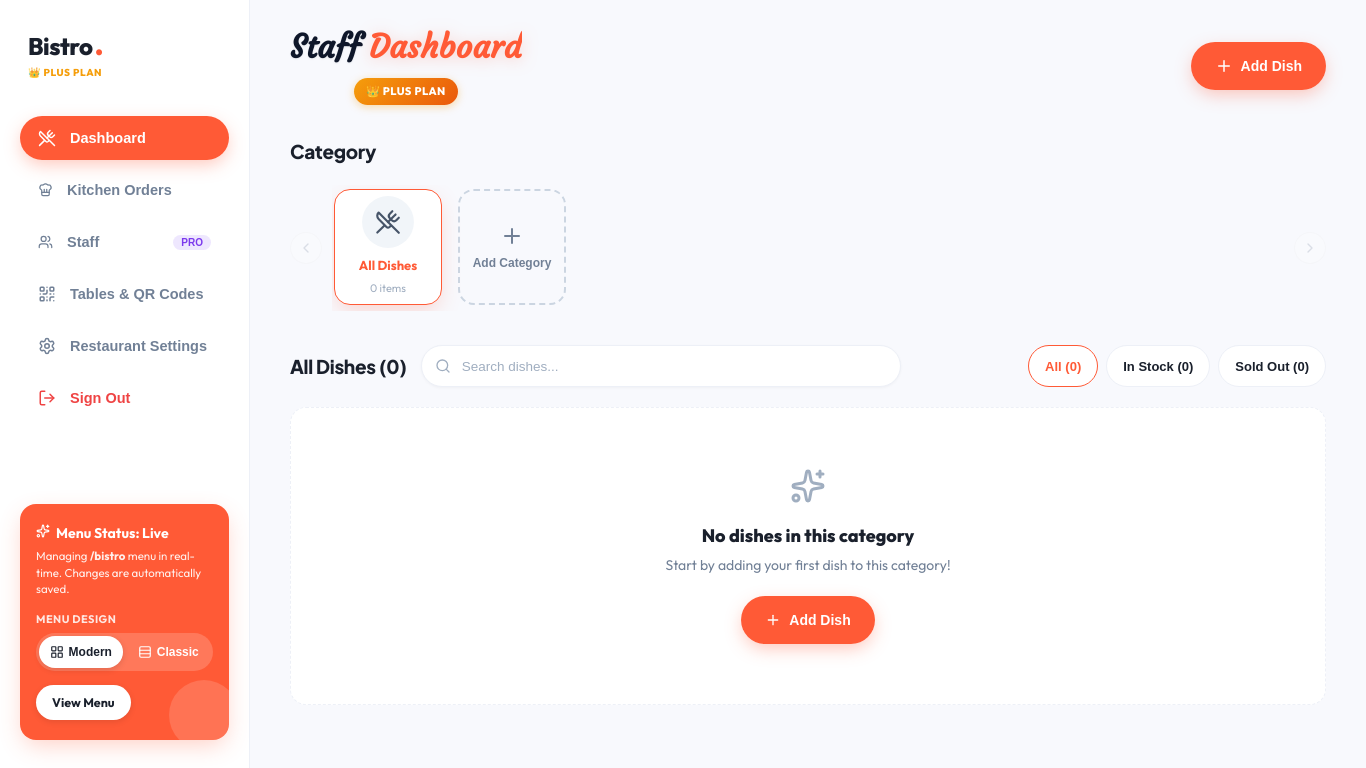
Test: AdminDashboardPage Start All (Plus kitchen) › starts the new round without sending the ready dish back to cooking
Click the button "Kitchen Orders" at (124, 190), box left=20, top=168, right=229, bottom=212
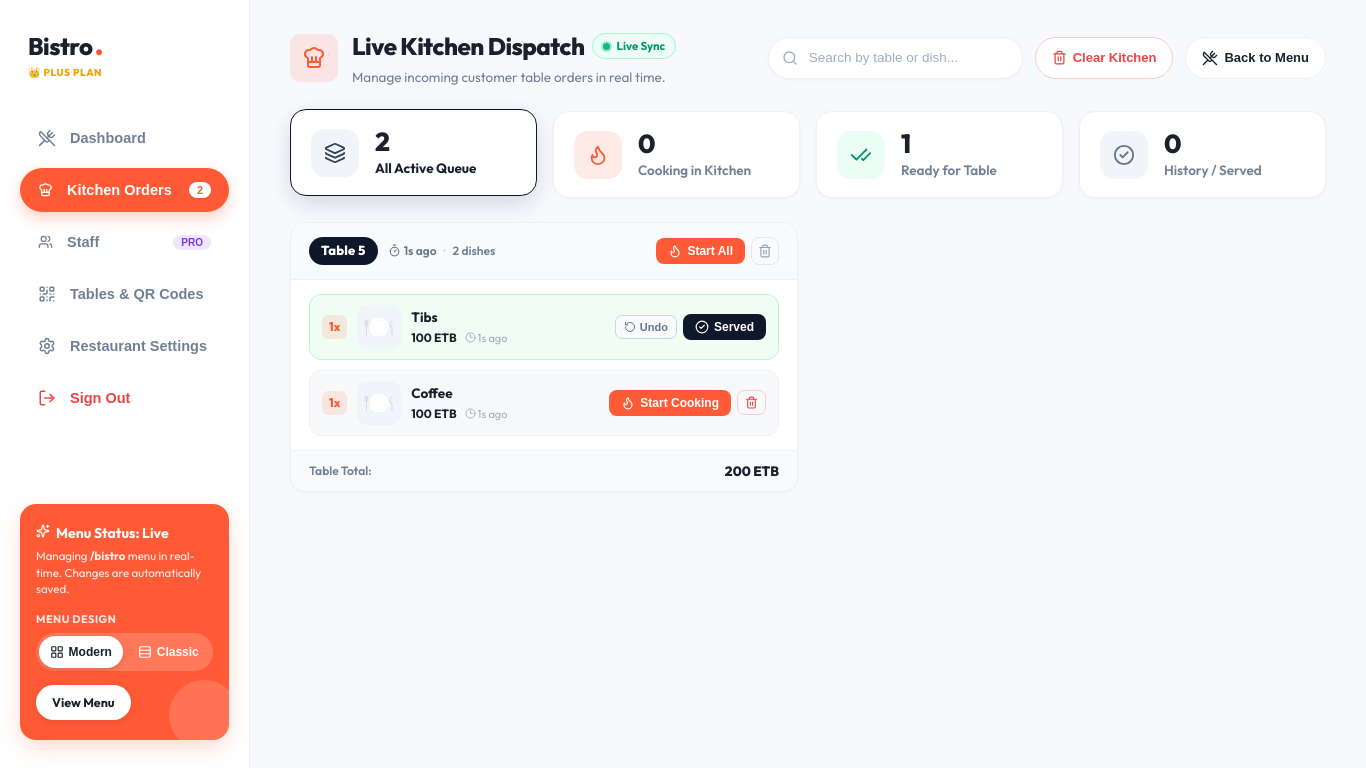
Click the button "Start All" at (701, 251), box left=656, top=238, right=745, bottom=264
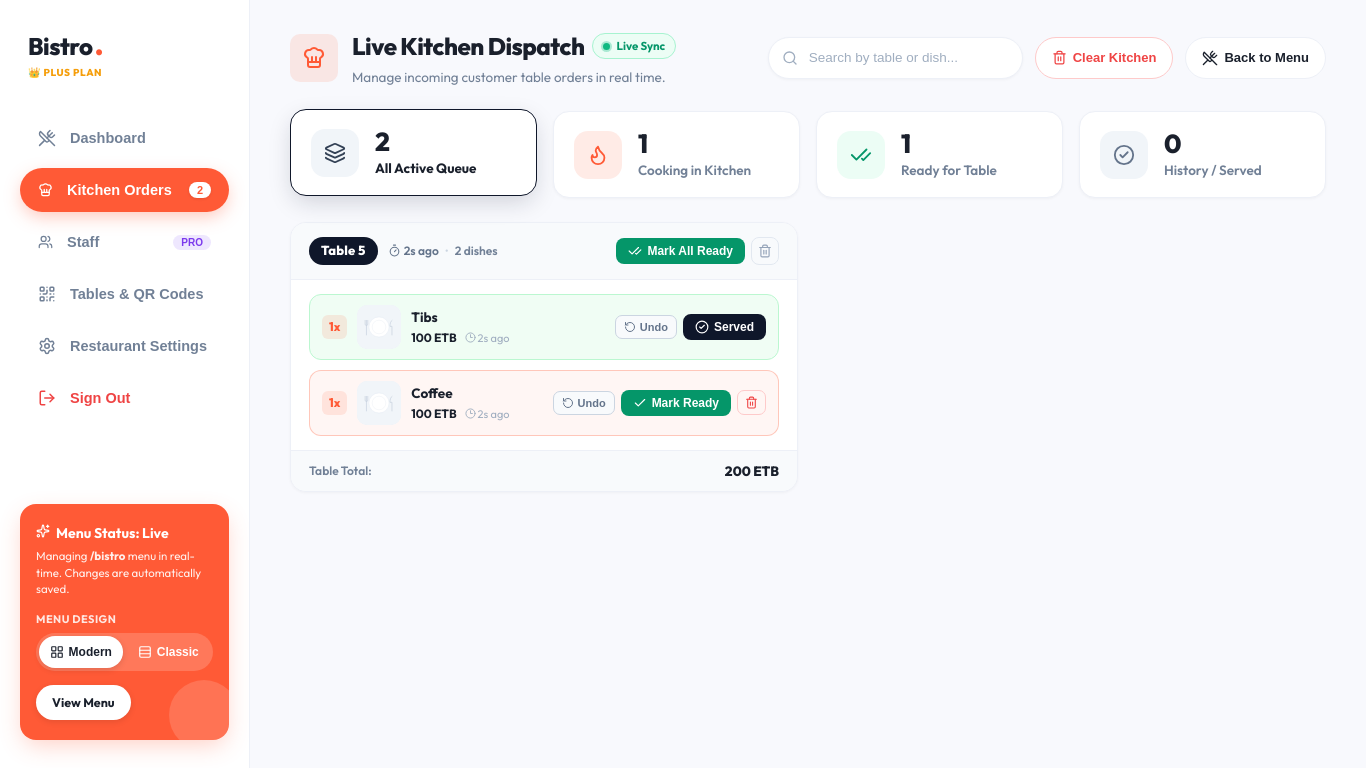
Now the text "Served" is shown, box left=714, top=320, right=754, bottom=334
Now the text "Mark Ready" is shown, box left=652, top=396, right=719, bottom=410
Now the button "Start Cooking" is gone
